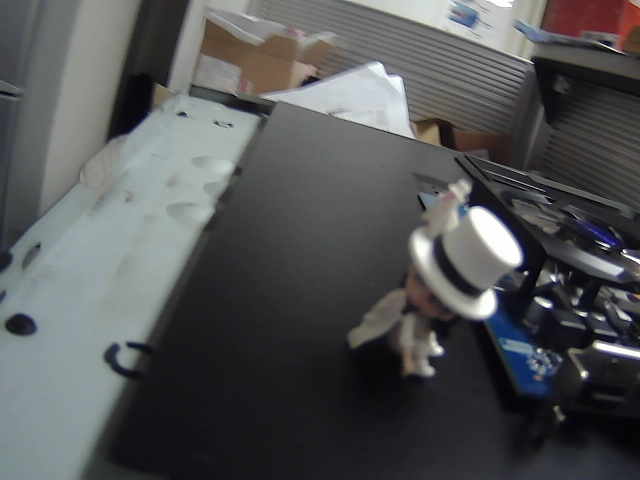lucci: (342, 174, 532, 398)
